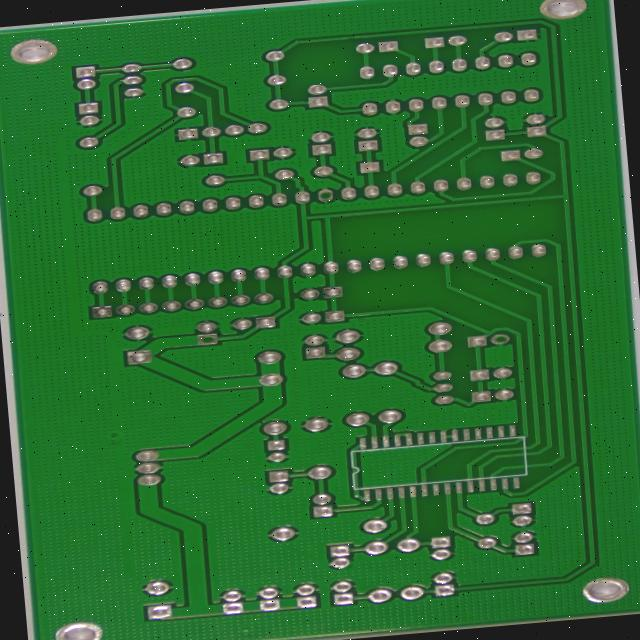missing_hole: (400, 147, 433, 166), (247, 304, 281, 321), (623, 300, 639, 314)
